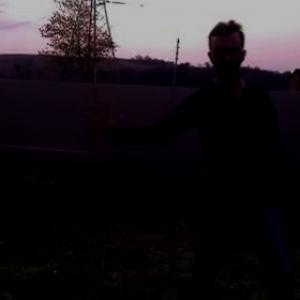follow_hand: (82, 96, 124, 138)
